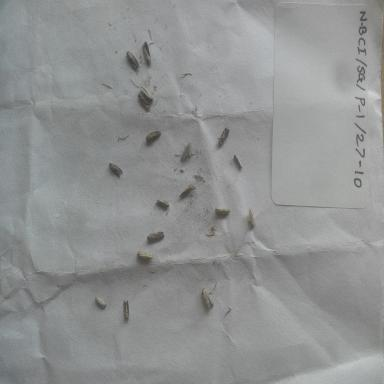pbw: (124, 46, 143, 78), (208, 198, 231, 222), (106, 155, 128, 180), (132, 246, 156, 268), (201, 285, 218, 315), (132, 90, 153, 114), (154, 192, 176, 214), (145, 226, 169, 246), (178, 178, 198, 202), (139, 79, 156, 107), (92, 287, 111, 312), (142, 123, 163, 145), (120, 294, 135, 323), (141, 39, 156, 67), (244, 205, 259, 232), (217, 122, 230, 151), (178, 138, 193, 163), (232, 149, 246, 173)
